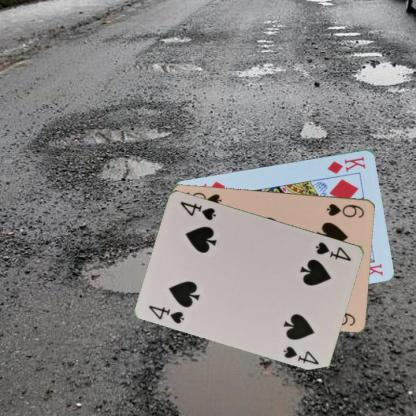4s: (146, 302, 186, 325), (313, 240, 353, 262)
6s: (324, 200, 366, 219)
Kd: (325, 153, 367, 175)
